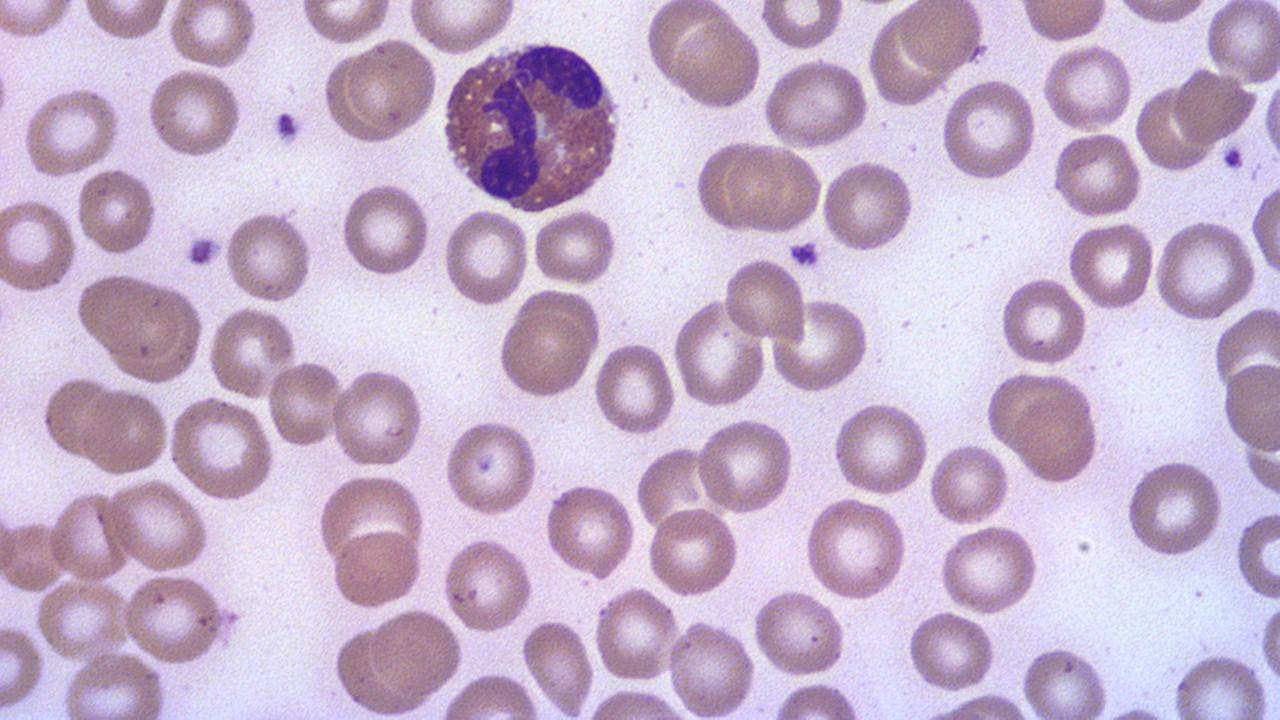Platelets: (183, 230, 226, 269), (786, 236, 822, 269), (1220, 142, 1248, 171)
RBC: (73, 269, 204, 382), (800, 494, 912, 602), (168, 394, 277, 502), (1151, 218, 1257, 322), (672, 297, 768, 410), (316, 472, 426, 568), (693, 414, 796, 516), (768, 295, 874, 394), (760, 57, 870, 152), (441, 415, 540, 520), (940, 77, 1038, 183), (330, 364, 426, 470), (104, 478, 212, 572), (1124, 458, 1224, 558), (830, 398, 930, 498), (937, 523, 1043, 617), (120, 572, 225, 666), (20, 83, 122, 179), (440, 534, 536, 636), (338, 179, 433, 281), (543, 479, 637, 582), (983, 370, 1089, 458), (665, 616, 758, 716), (144, 67, 244, 160), (441, 206, 530, 310), (820, 158, 916, 254), (644, 508, 742, 602), (592, 584, 682, 686), (1010, 388, 1103, 486), (367, 606, 466, 698), (222, 205, 314, 304), (752, 588, 850, 680), (592, 336, 678, 440), (728, 141, 824, 234), (496, 309, 594, 400), (671, 16, 763, 112), (346, 37, 437, 134), (206, 303, 297, 399), (32, 578, 133, 664), (1040, 43, 1136, 133), (996, 274, 1088, 366), (1048, 131, 1144, 219), (1066, 218, 1154, 314), (328, 526, 425, 612), (905, 607, 998, 696), (47, 488, 133, 583), (74, 164, 159, 260), (0, 195, 79, 298), (81, 386, 170, 477), (694, 138, 774, 235), (722, 254, 807, 345), (643, 0, 731, 87), (1134, 81, 1216, 173), (266, 356, 345, 450), (520, 616, 594, 716), (531, 207, 621, 287), (1171, 64, 1257, 147), (927, 440, 1010, 526), (59, 652, 170, 716), (1168, 650, 1274, 716), (1018, 642, 1112, 716), (321, 48, 393, 144), (1203, 0, 1280, 87), (40, 374, 118, 459), (1211, 304, 1279, 400), (898, 1, 984, 73), (406, 2, 518, 56), (166, 1, 256, 68), (1221, 358, 1279, 453), (757, 1, 847, 53), (0, 620, 48, 712), (1234, 508, 1280, 602), (297, 2, 395, 46), (1016, 1, 1112, 42), (769, 680, 865, 720), (79, 1, 172, 41), (1250, 182, 1280, 283), (1, 0, 76, 40), (1109, 0, 1215, 27), (1256, 594, 1280, 706), (1260, 67, 1280, 176)
WBC: (437, 33, 629, 215)
